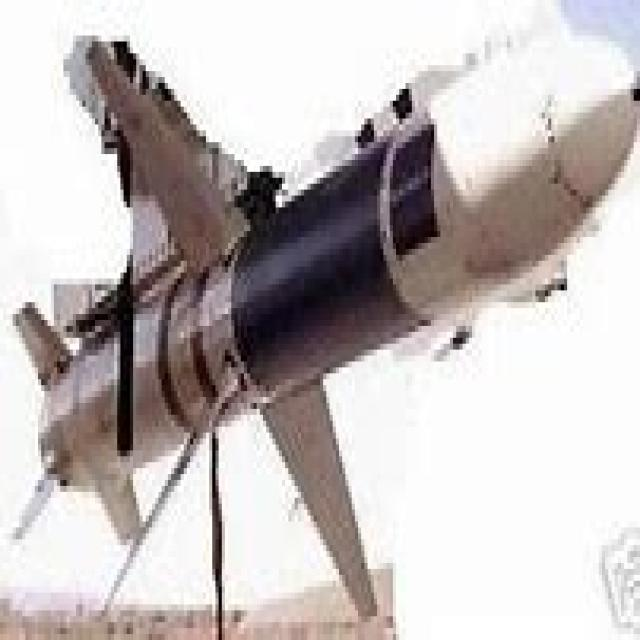missile: (12, 30, 630, 617)
